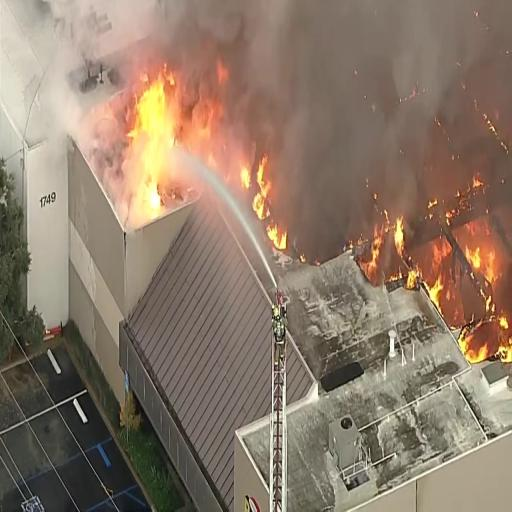fire: (110, 69, 186, 213)
smoke: (312, 0, 424, 176)
